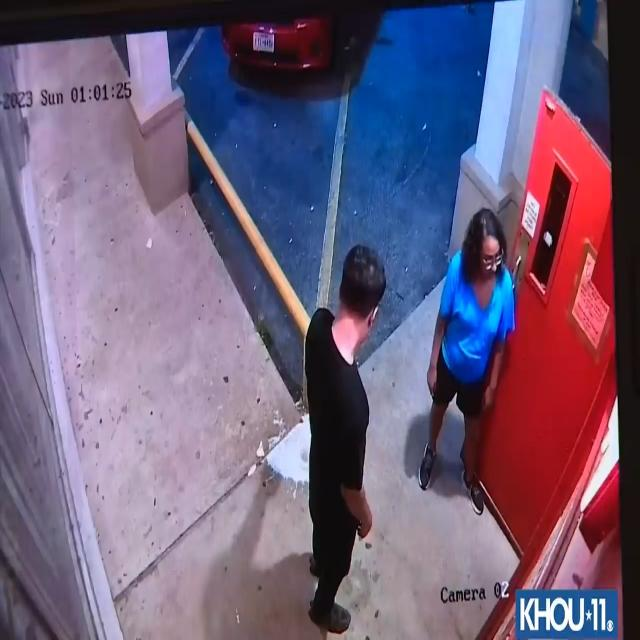Person: (302, 235, 383, 636), (419, 196, 518, 510)
